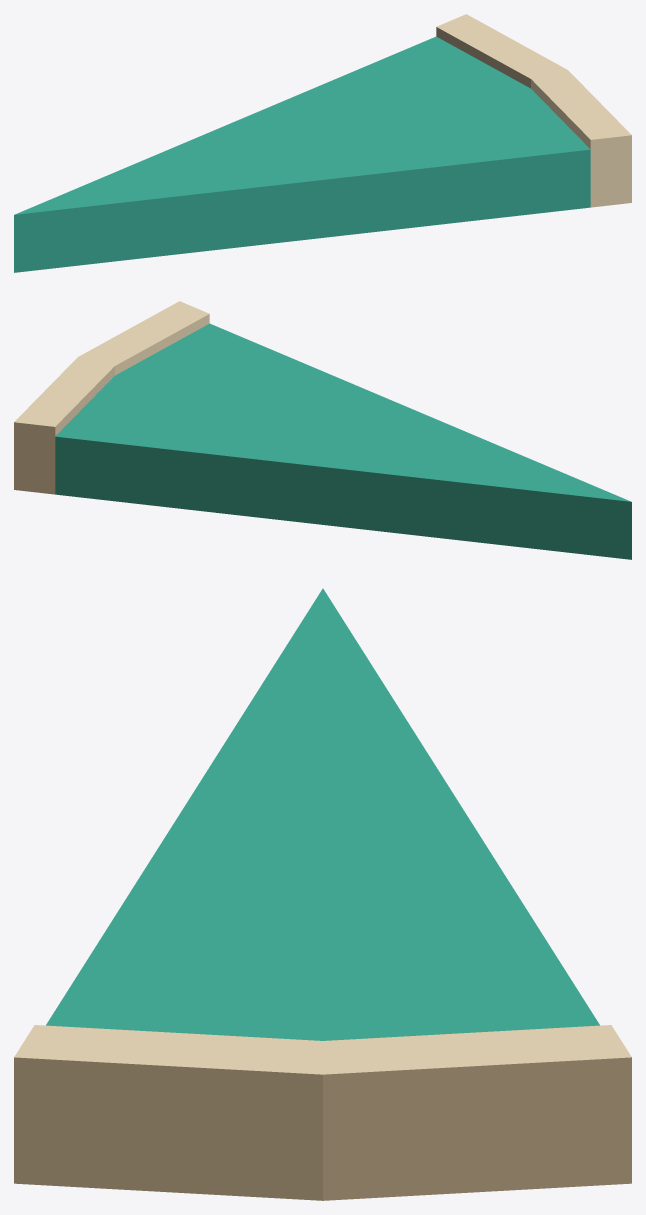
File: pie_slice_12.glb
3 views of the same model, one above another, from view 1: azimuth 30°, elevation 25°; view 2: azimuth 150°, elevation 25°; view 3: azimuth 270°, elevation 25° (orthographic). The views are drawn at different scales.
Visible parts, largest first — view 1: slice; view 2: slice; view 3: slice.
Part boxes in pixels (x1,y1,x2,y2): slice: (14,14,631,272); slice: (14,301,631,559); slice: (14,588,631,1200).
Size of the model in its own units: 0.06 by 0.007 by 0.0311.
